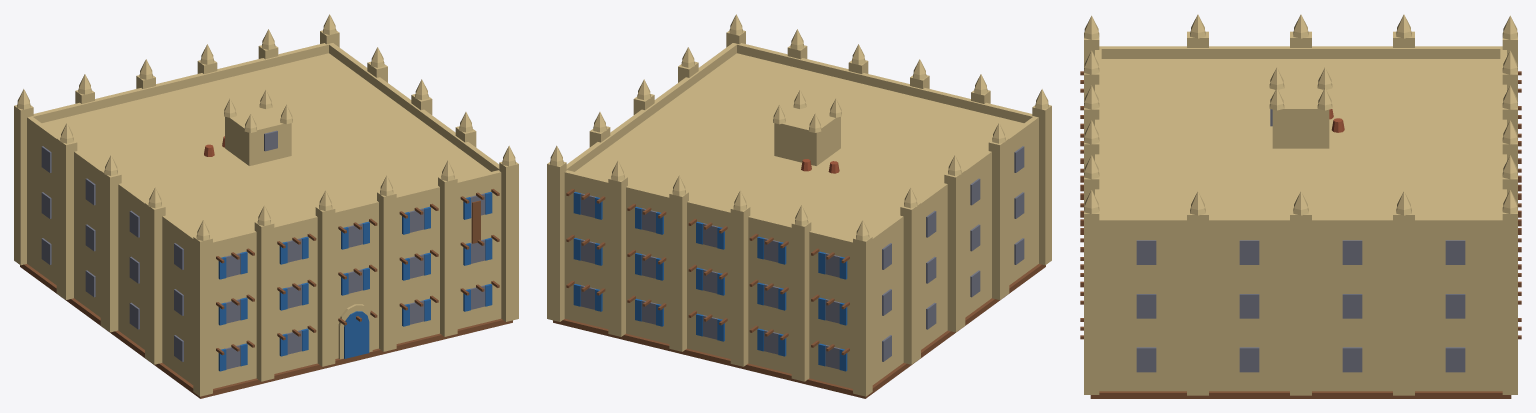
The model's file is house-2x2-3f-banco-a.glb.
3 views of the same model, side by side, from view 1: azimuth 30°, elevation 25°; view 2: azimuth 150°, elevation 25°; view 3: azimuth 270°, elevation 25° (orthographic). The views are drawn at different scales.
Visible parts, largest first — view 1: house-2x2-3f-banco-a; view 2: house-2x2-3f-banco-a; view 3: house-2x2-3f-banco-a.
Part boxes in pixels (x1,y1,x2,y2): house-2x2-3f-banco-a: [14, 14, 518, 398]; house-2x2-3f-banco-a: [547, 14, 1051, 398]; house-2x2-3f-banco-a: [1080, 14, 1521, 398].
Bounding box in the file's own units: 1.99 × 1.15 × 2.01.
1 material, 1 textured.
